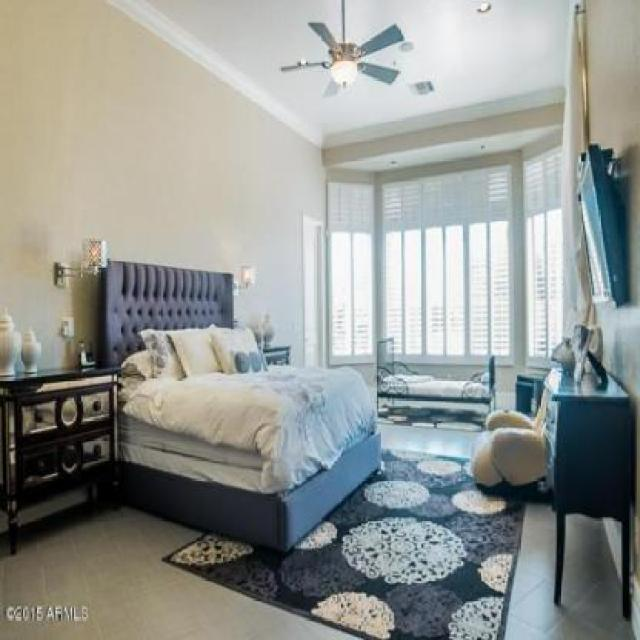Floor: (1, 496, 362, 638), (504, 499, 635, 638), (378, 424, 483, 459), (527, 414, 537, 422)
